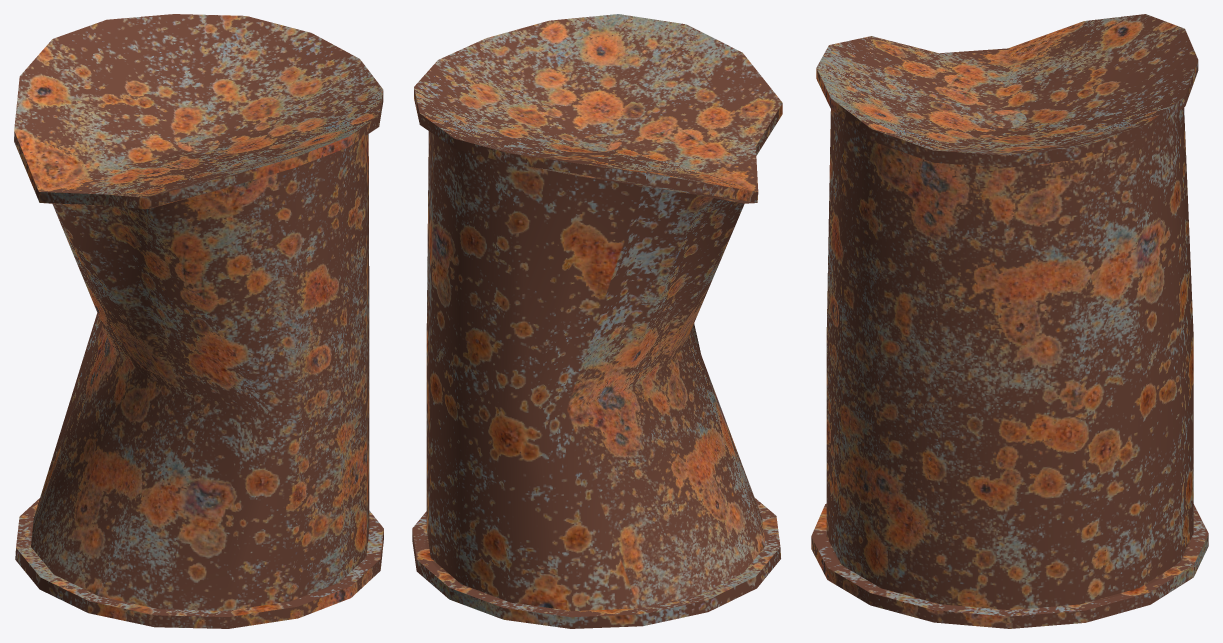
The model's file is oil_drum_ 1.fbx.
3 renders of one model, left to right at view 1: azimuth 30°, elevation 25°; view 2: azimuth 150°, elevation 25°; view 3: azimuth 270°, elevation 25°, orthographic. The views are drawn at different scales.
Parts seen in each view (by area): view 1: low_jiu_01.001; view 2: low_jiu_01.001; view 3: low_jiu_01.001.
Part boxes in pixels (left/top/right/bottom): low_jiu_01.001: left=14, top=14, right=383, bottom=628; low_jiu_01.001: left=412, top=14, right=782, bottom=628; low_jiu_01.001: left=811, top=14, right=1208, bottom=628.
Bounding box in the file's own units: 61.63 × 84.96 × 62.99.
Materials: 1 (1 with a texture image).
